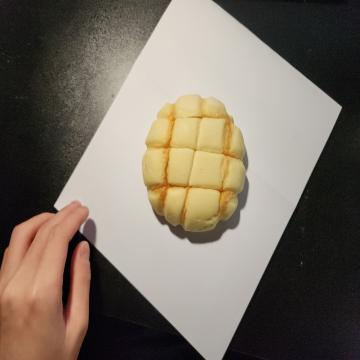melon_bread: (142, 93, 246, 234)
